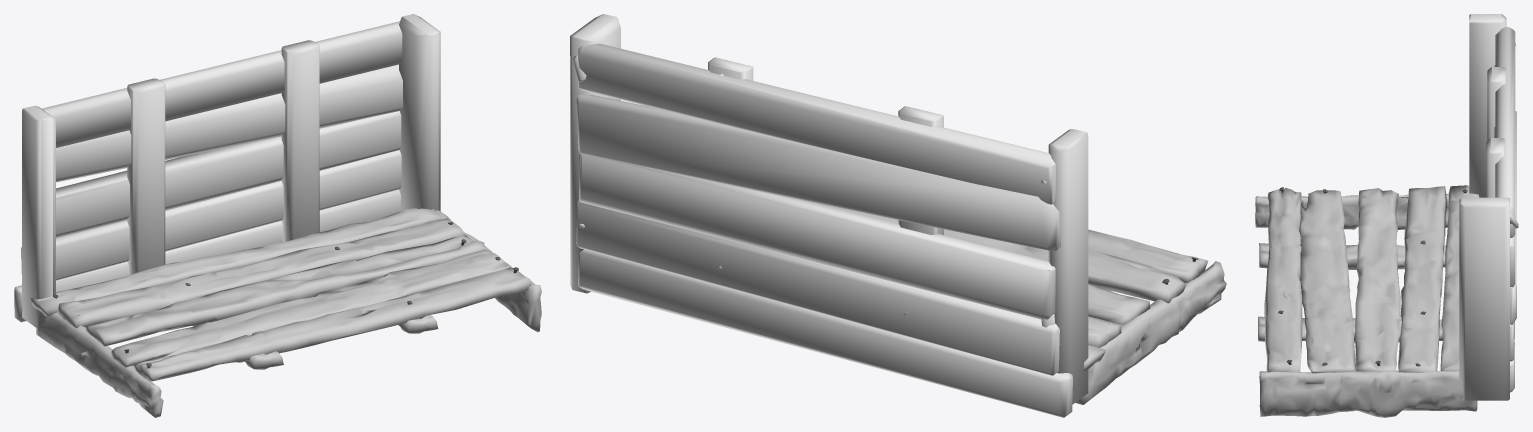
The model's file is SM_WoodenFloor_half_B.fbx.
3 renders of one model, left to right at view 1: azimuth 30°, elevation 25°; view 2: azimuth 150°, elevation 25°; view 3: azimuth 270°, elevation 25°, orthographic. The views are drawn at different scales.
Visible parts, largest first — view 1: SM_WoodenFloor_half_B_ConvexHulls, SM_WoodenFloor_half_B; view 2: SM_WoodenFloor_half_B_ConvexHulls, SM_WoodenFloor_half_B; view 3: SM_WoodenFloor_half_B, SM_WoodenFloor_half_B_ConvexHulls.
Boxes of the visible parts, bbox=[...] form: SM_WoodenFloor_half_B_ConvexHulls: bbox=[14, 14, 440, 328]; SM_WoodenFloor_half_B: bbox=[31, 208, 541, 417]; SM_WoodenFloor_half_B_ConvexHulls: bbox=[570, 14, 1088, 417]; SM_WoodenFloor_half_B: bbox=[822, 204, 1226, 404]; SM_WoodenFloor_half_B: bbox=[1255, 185, 1479, 417]; SM_WoodenFloor_half_B_ConvexHulls: bbox=[1459, 14, 1518, 400].
Bounding box in the file's own units: 3.07 × 1.65 × 1.8.
